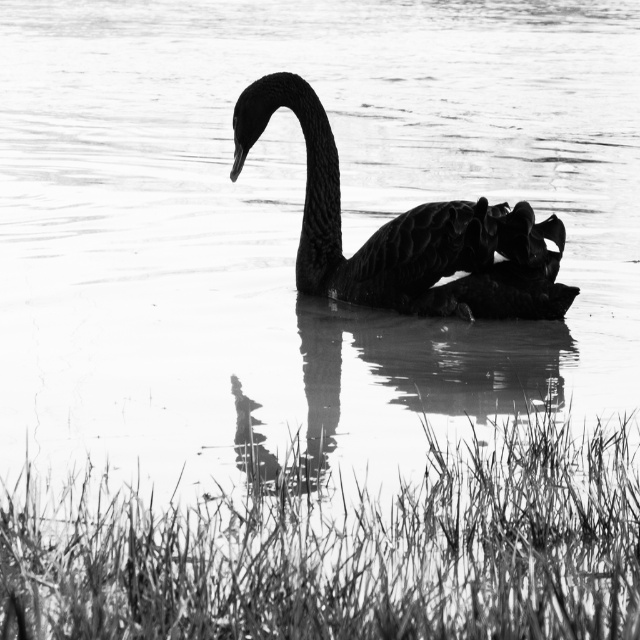Swan: (229, 72, 580, 319)
